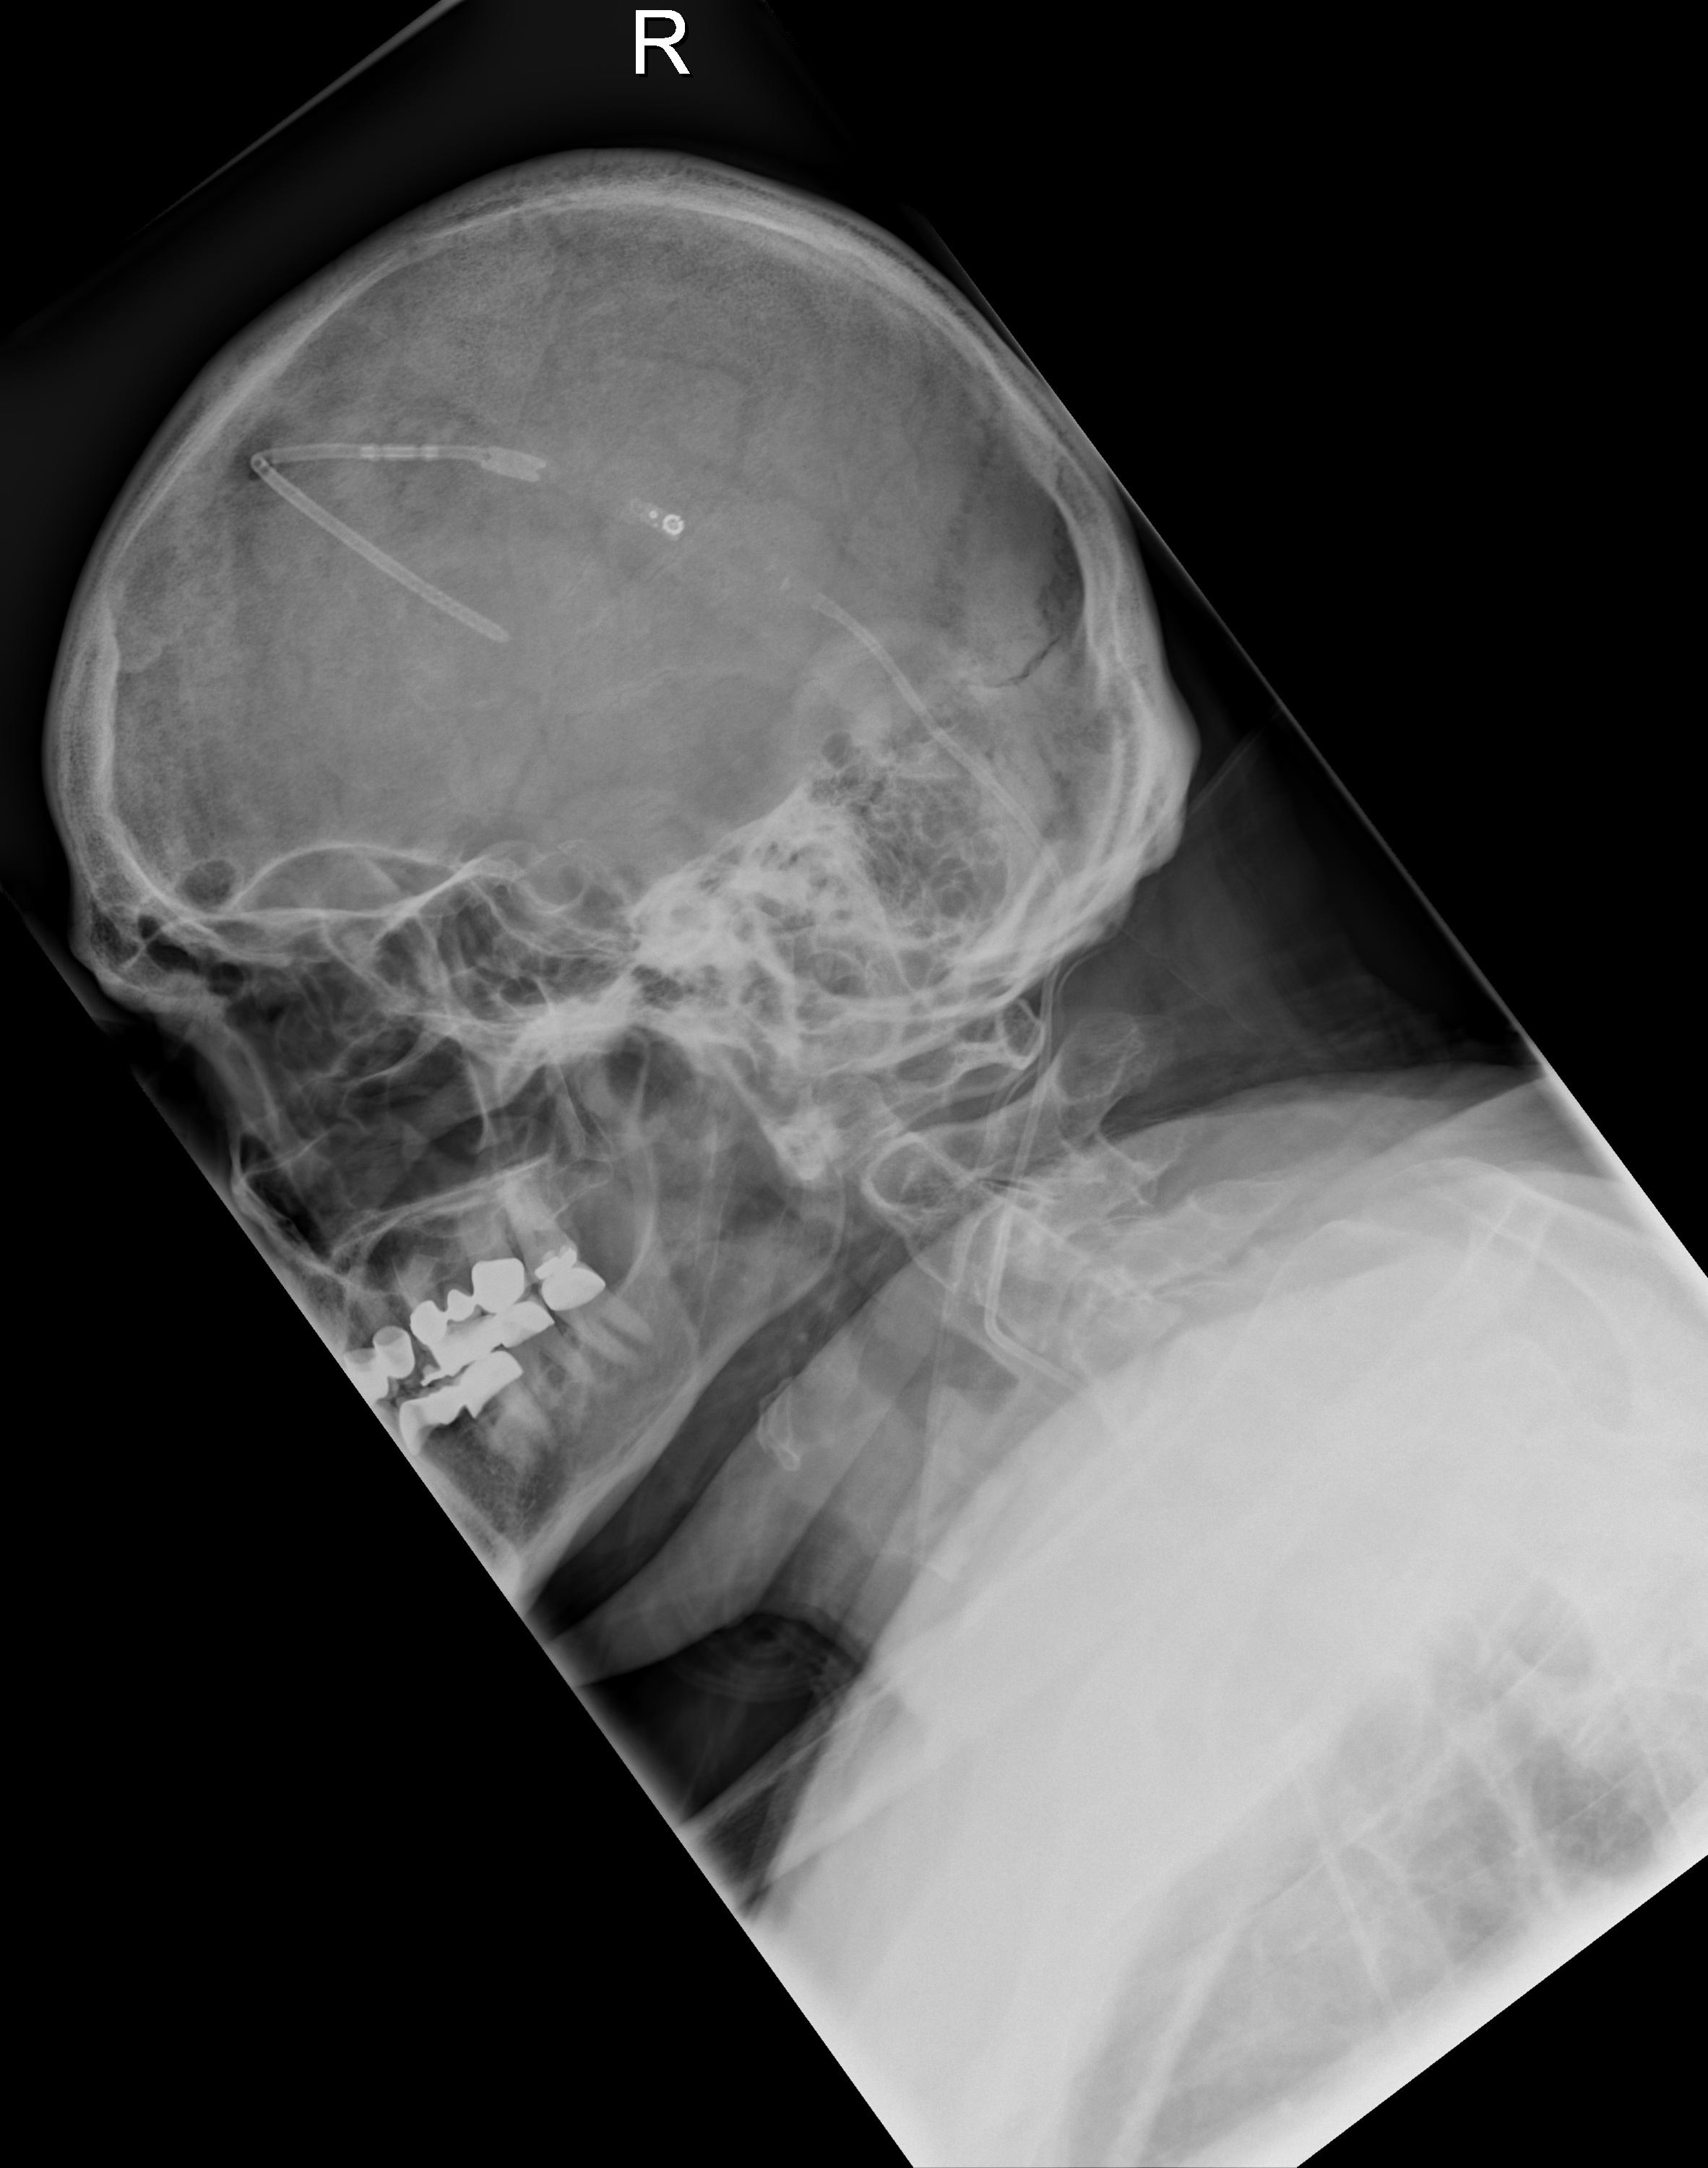Codman Hakim: (639, 500, 693, 547)
